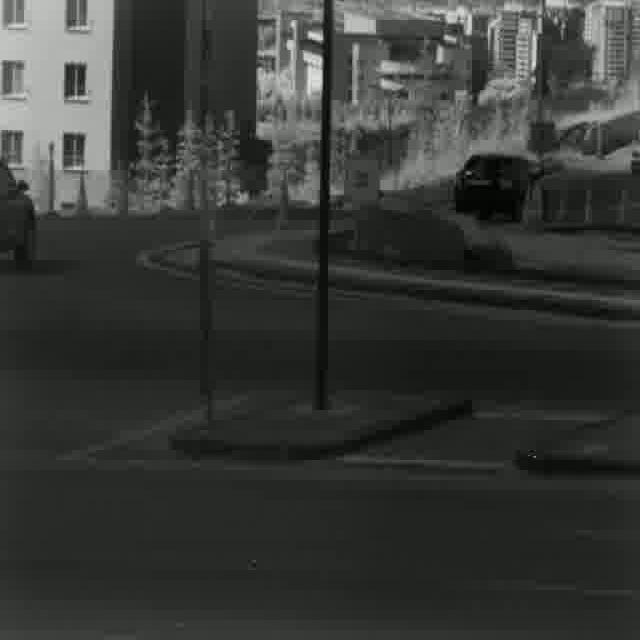Car: (451, 146, 545, 219), (0, 155, 44, 270)
